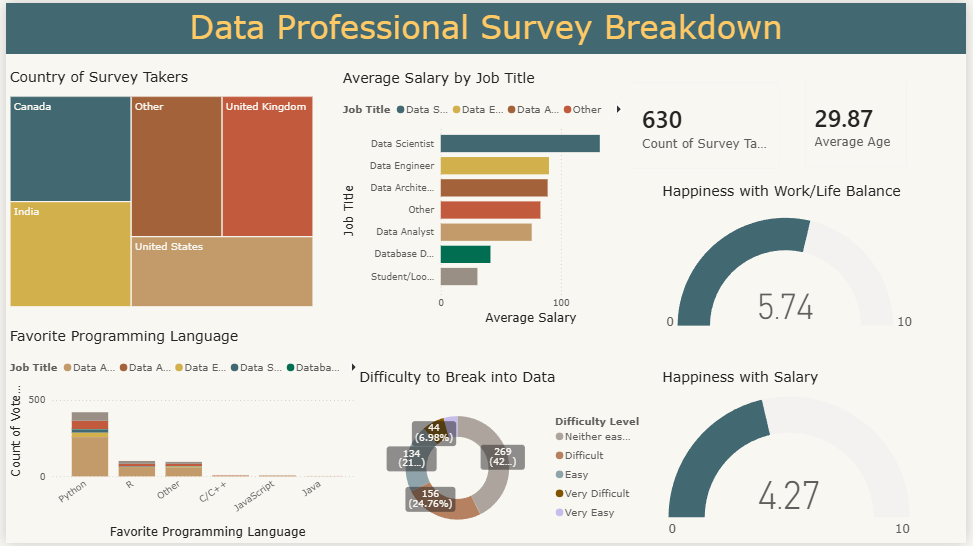

The dashboard page shown, as its layout file describes it:
{"tool":"powerbi","page":{"name":"Page 1","canvas":[1280,720],"ordinal":0},"visuals":[{"type":"textbox","box":[0,0,1280,68],"z":0},{"type":"cardVisual","fields":{"Data":["CountNonNull(Data Professional Survey.Unique ID)"]},"box":[817.5,87.5,230,150],"z":1000},{"type":"cardVisual","fields":{"Data":["Avg(Data Professional Survey.Q10 - Current Age)"]},"box":[1047.5,85,170,150],"z":2000},{"type":"barChart","title":"Average Salary by Job Title","fields":{"Category":["Data Professional Survey.Q1 - Which Title Best Fits your Current Role?.1"],"Y":["Avg(Data Professional Survey.Average Salary)"],"Series":["Data Professional Survey.Q1 - Which Title Best Fits your Current Role?.1"]},"box":[444,88,392.5,345],"z":3000},{"type":"columnChart","title":"Favorite Programming Language","fields":{"Category":["Data Professional Survey.Q5 - Favorite Programming Language.1"],"Y":["CountNonNull(Data Professional Survey.Unique ID)"],"Series":["Data Professional Survey.Q1 - Which Title Best Fits your Current Role?.1"]},"box":[0,432.5,480,287.5],"z":4000},{"type":"treemap","title":"Country of Survey Takers","fields":{"Group":["Data Professional Survey.Q11 - Which Country do you live in?.1"],"Values":["Count(Data Professional Survey.Q11 - Which Country do you live in?.1)"]},"box":[0,86,414,324],"z":5000},{"type":"gauge","title":"Happiness with Work/Life Balance","fields":{"Y":["Avg(Data Professional Survey.Q6 - How Happy are you in your Current Position with the following? (Work/Life Balance))"],"MinValue":["Min(Data Professional Survey.Q6 - How Happy are you in your Current Position with the following? (Work/Life Balance))1"],"MaxValue":["Max(Data Professional Survey.Q6 - How Happy are you in your Current Position with the following? (Work/Life Balance))2"]},"box":[870,237.5,348,212],"z":6000},{"type":"gauge","title":"Happiness with Salary","fields":{"Y":["Avg(Data Professional Survey.Q6 - How Happy are you in your Current Position with the following? (Salary))"],"MinValue":["Min(Data Professional Survey.Q6 - How Happy are you in your Current Position with the following? (Salary))"],"MaxValue":["Max(Data Professional Survey.Q6 - How Happy are you in your Current Position with the following? (Salary))"]},"box":[870,486,348,234],"z":7000},{"type":"donutChart","title":"Difficulty to Break into Data","fields":{"Y":["CountNonNull(Data Professional Survey.Q7 - How difficult was it for you to break into Data?)"],"Category":["Data Professional Survey.Q7 - How difficult was it for you to break into Data?"]},"box":[466,486,384,234],"z":8000}]}

Visuals, with their boxes in screenshot pixels (x1, y1, x2, y2), scaled from the page's 1280x720 canvas onto the 973x546 screenshot:
textbox: Rect(0, 0, 972, 52)
cardVisual - CountNonNull(Data Professional Survey.Unique ID): Rect(621, 66, 796, 180)
cardVisual - Avg(Data Professional Survey.Q10 - Current Age): Rect(796, 64, 925, 178)
"Average Salary by Job Title" barChart: Rect(338, 67, 636, 328)
"Favorite Programming Language" columnChart: Rect(0, 328, 365, 545)
"Country of Survey Takers" treemap: Rect(0, 65, 315, 311)
"Happiness with Work/Life Balance" gauge: Rect(661, 180, 926, 341)
"Happiness with Salary" gauge: Rect(661, 369, 926, 545)
"Difficulty to Break into Data" donutChart: Rect(354, 369, 646, 545)
